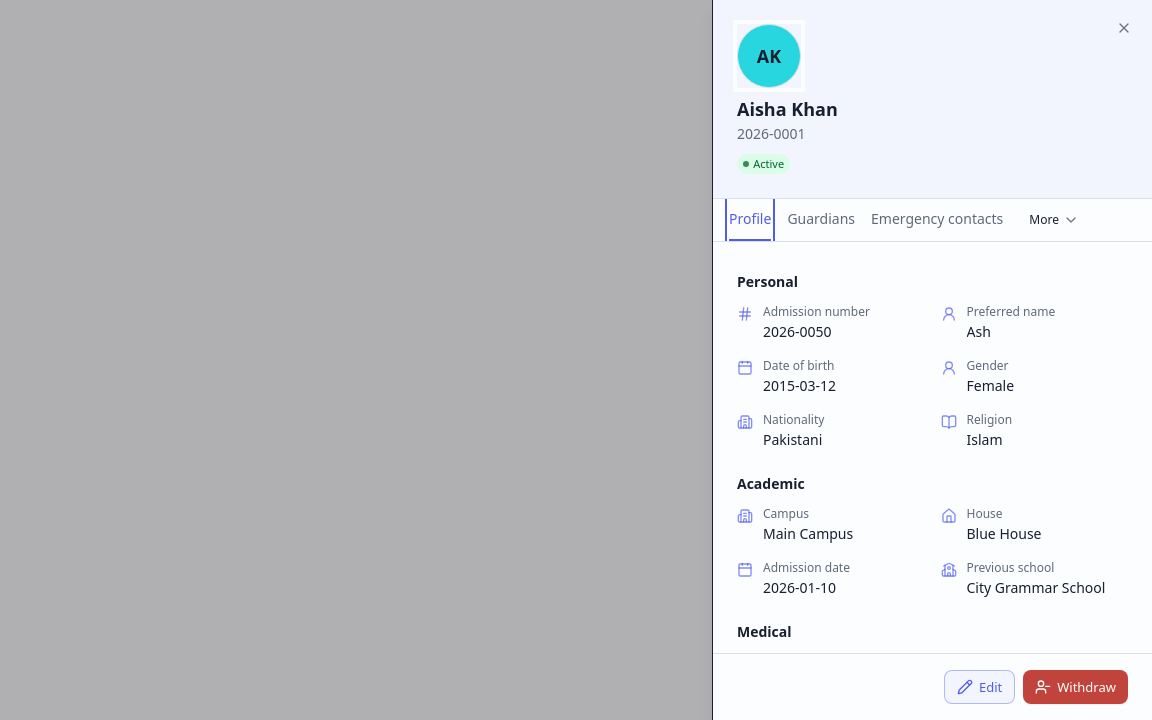
it: StudentDetailSheet › switching tabs away and back does not leave a stale error from an interrupted first fetch
This screenshot has width=1152, height=720.
expect the text "2026-0001" is shown: met, box 737,124 -> 806,143
Click the tab "Guardians". click: (821, 220)
box: 787,199 -> 855,241
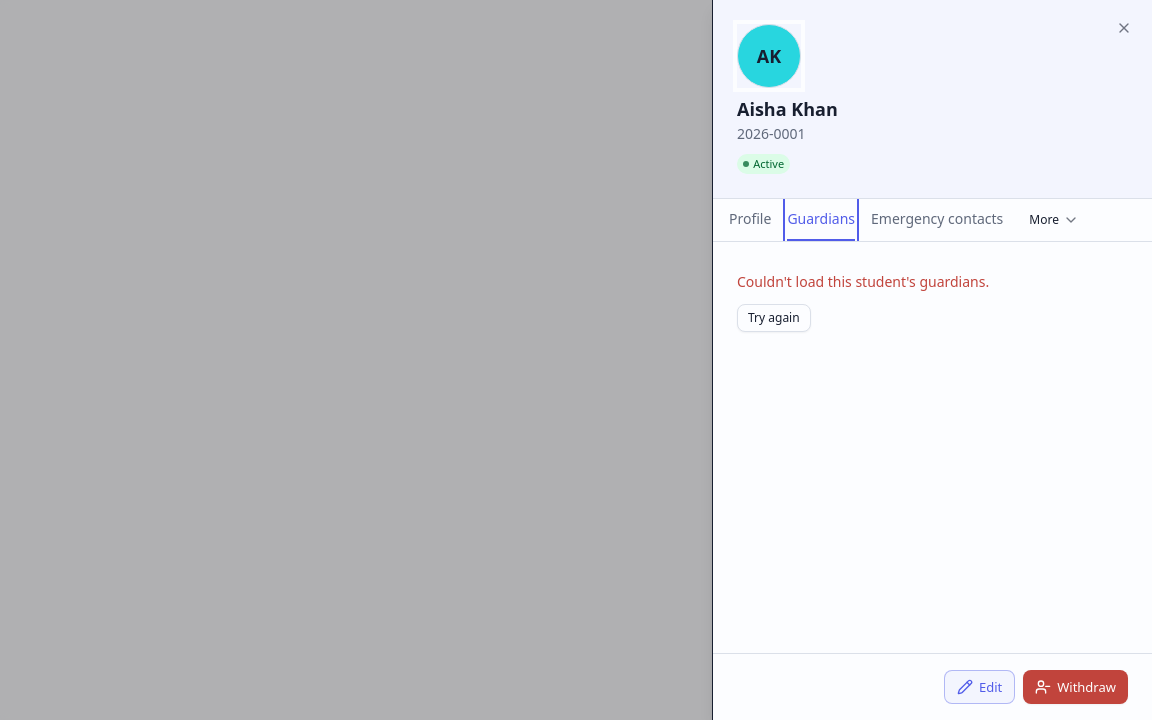
Click the tab "Profile". click: (750, 220)
box: 729,199 -> 771,241
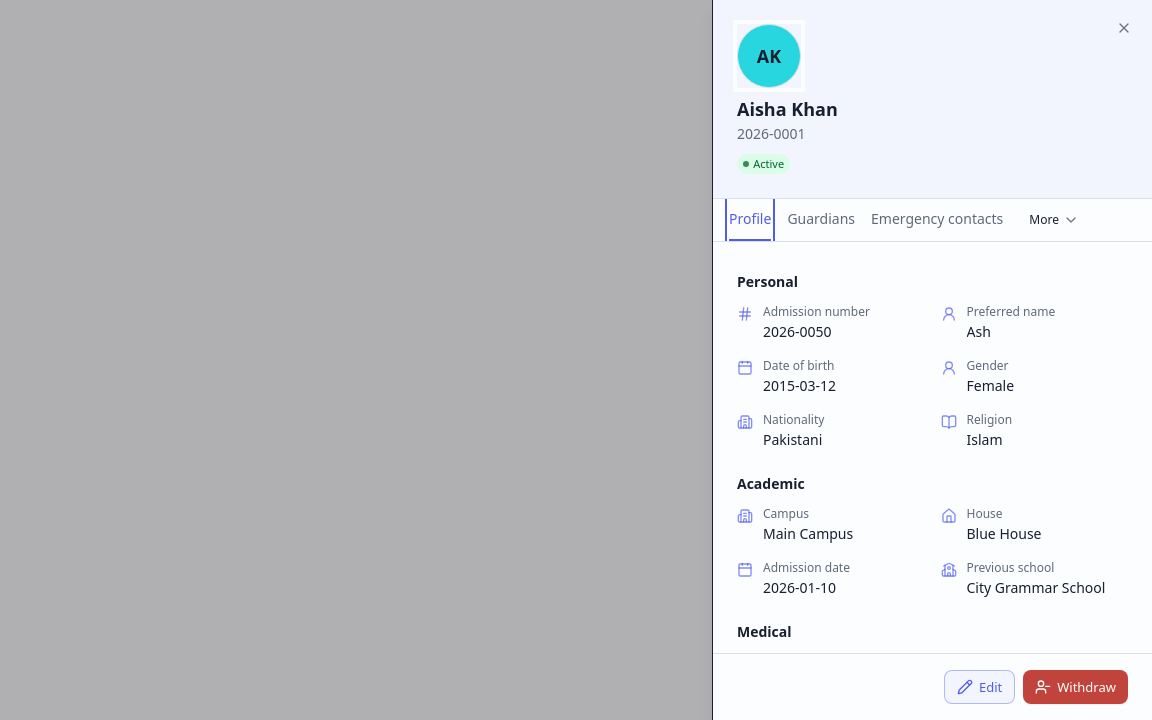
Click the tab "Guardians". click: (821, 220)
box: 787,199 -> 855,241
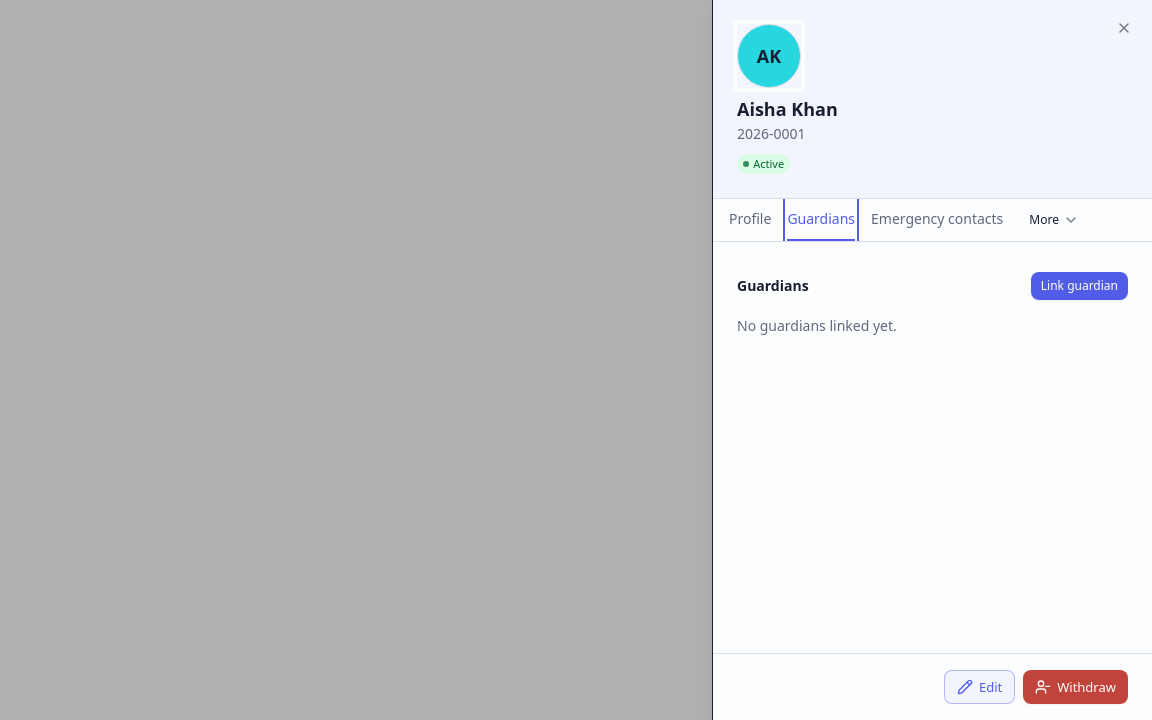
expect the text "No guardians linked yet." is shown: met, box 737,316 -> 897,335
